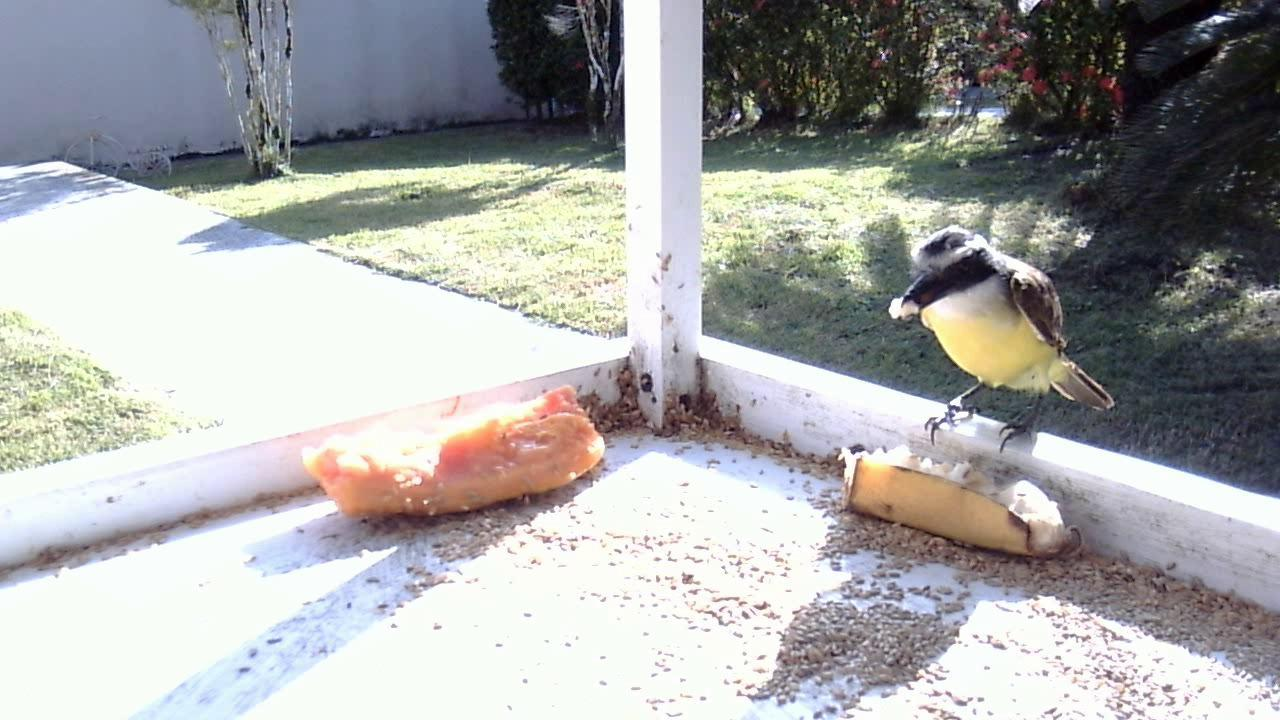bem_te_vi: (881, 215, 1122, 467)
